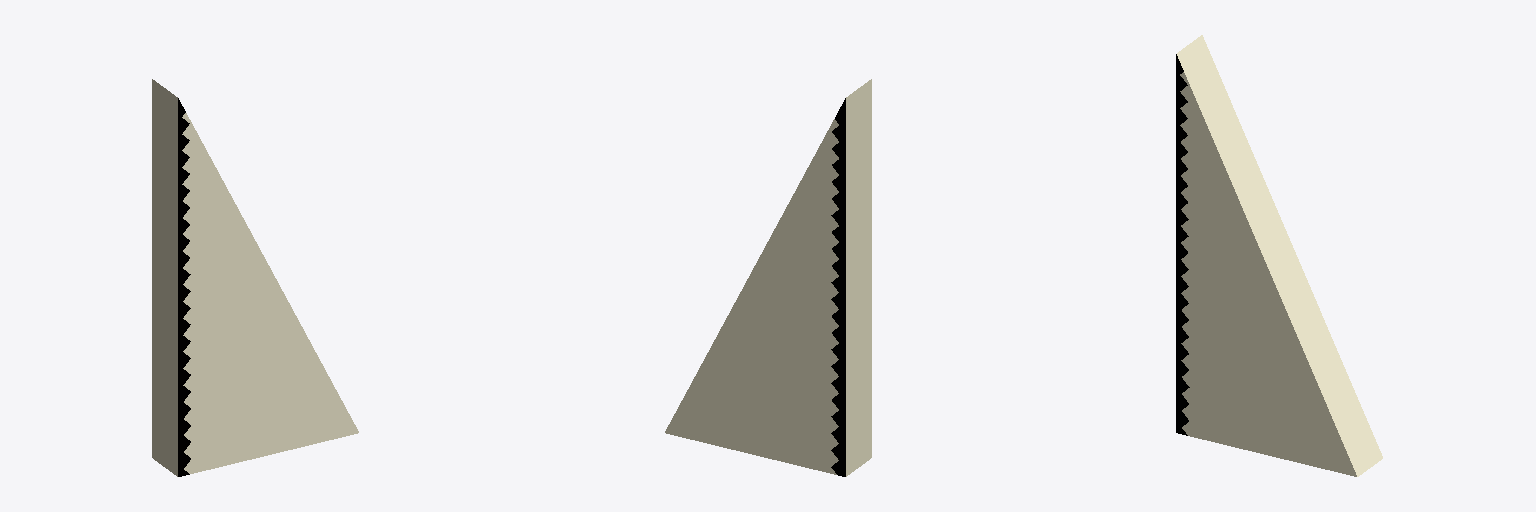
The picture shows the model from 3 angles: view 1: azimuth 30°, elevation 25°; view 2: azimuth 150°, elevation 25°; view 3: azimuth 330°, elevation 25°; orthographic projection.
Visible parts, largest first — view 1: ventanaCuarto1:polySurface30base7; view 2: ventanaCuarto1:polySurface30base7; view 3: ventanaCuarto1:polySurface30base7.
Boxes of the visible parts, x1,y1,x2,y2 form: ventanaCuarto1:polySurface30base7: [152, 79, 358, 476]; ventanaCuarto1:polySurface30base7: [665, 79, 871, 476]; ventanaCuarto1:polySurface30base7: [1176, 35, 1382, 476].
Bounding box in the file's own units: 0.1815 × 0.3631 × 0.045.
Materials: 1 (1 with a texture image).